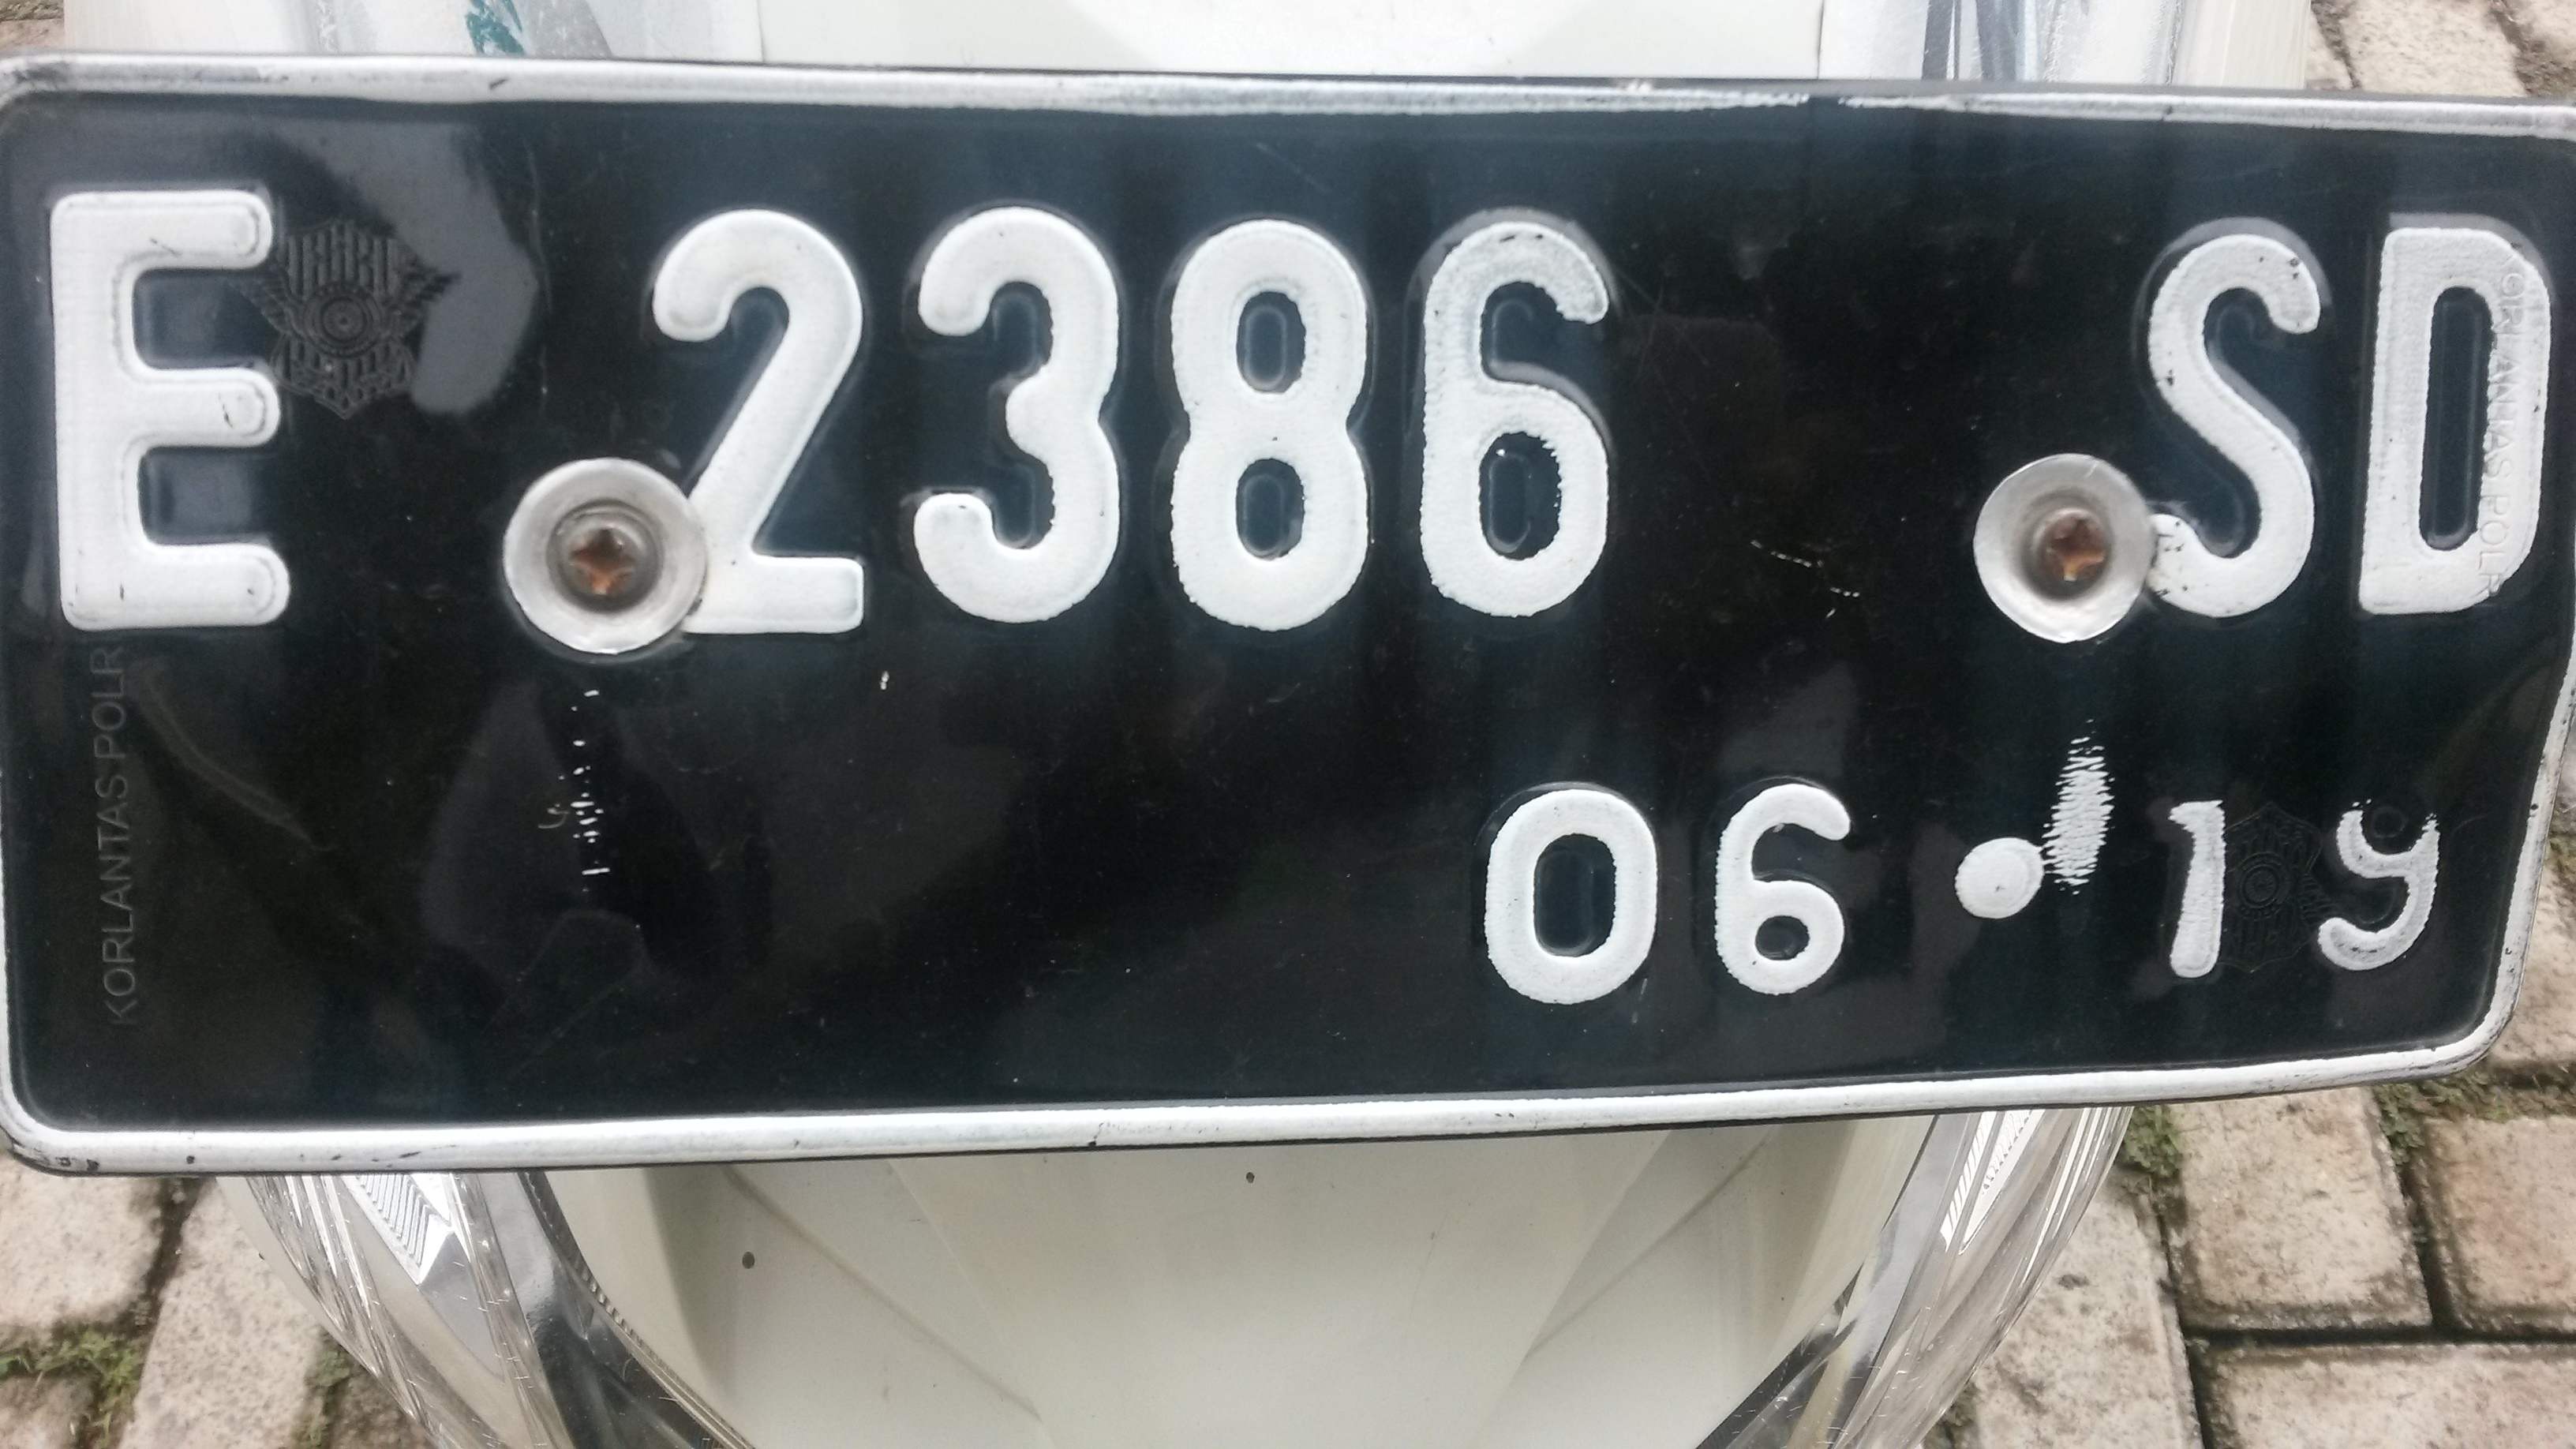plate: (1, 47, 2576, 1168)
